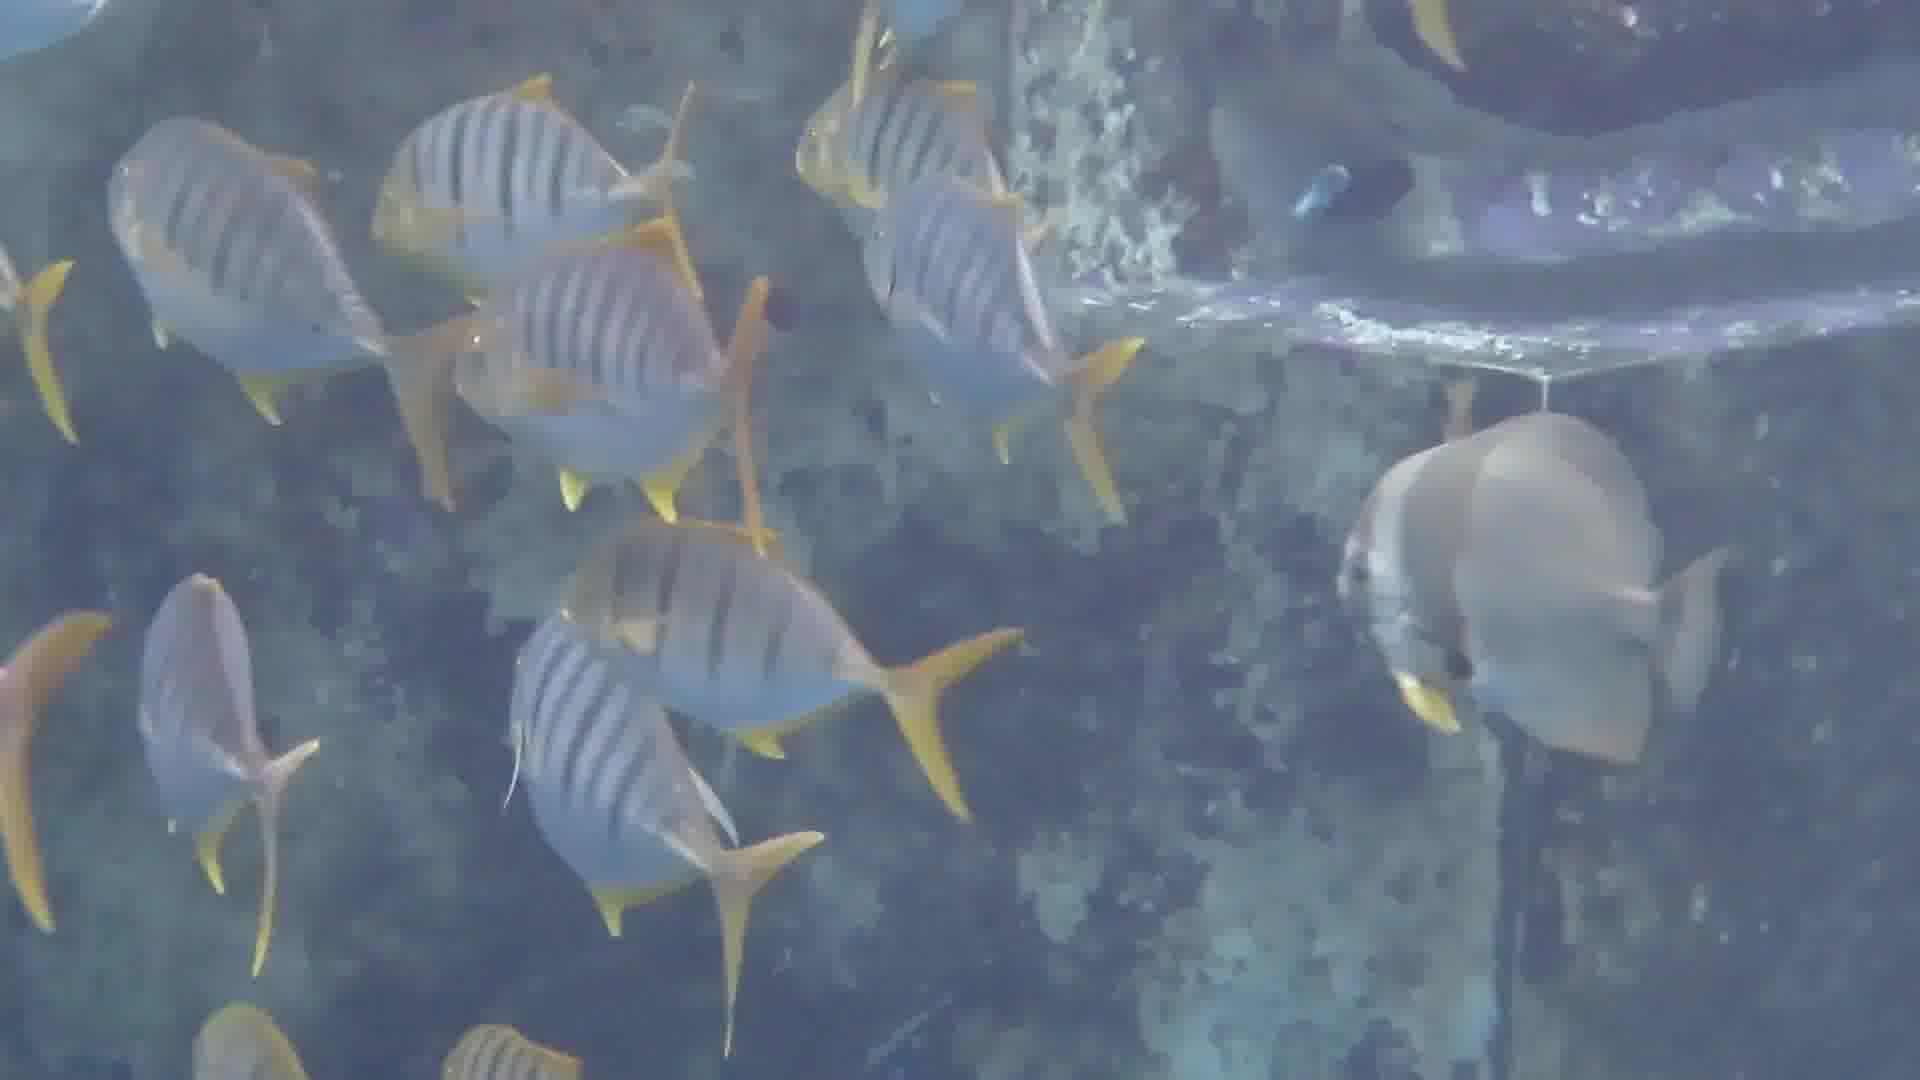Gnathanodon speciosus: (574, 502, 986, 807), (115, 88, 413, 471), (487, 630, 771, 948), (455, 255, 789, 521), (876, 186, 1135, 502), (361, 59, 727, 278)
